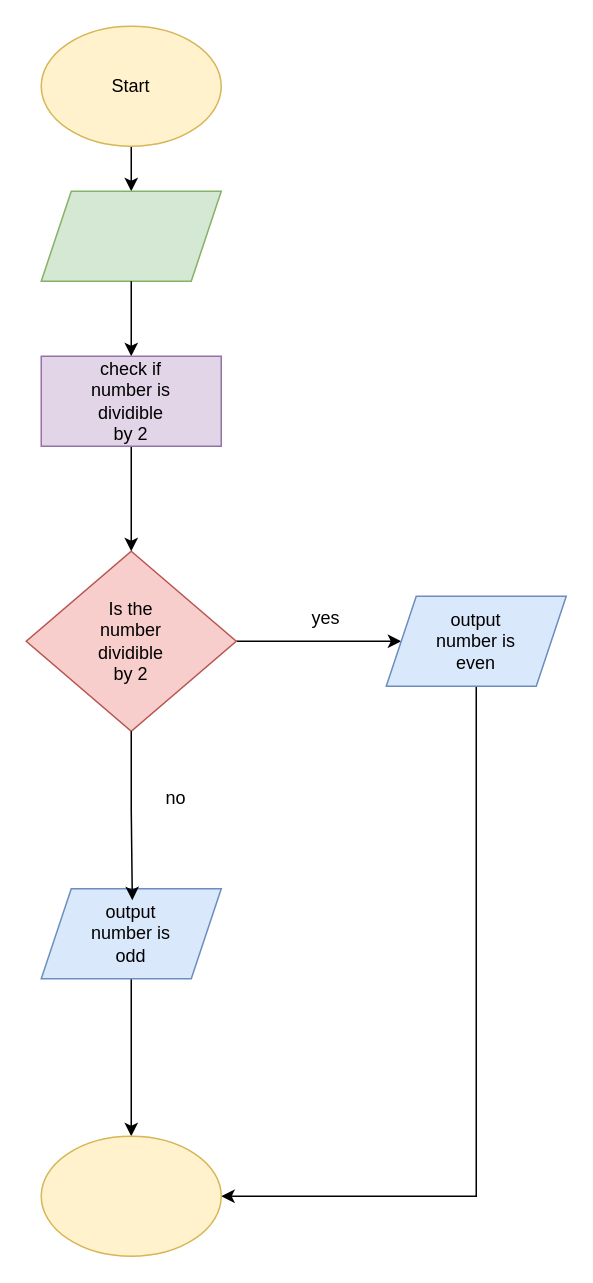
Some shapes in this 593 by 1283 pixel diagram are drawn without their labels. Here are the shapes that lost their labels. From the top down, the centre of each, then its label:
At pixel 130 235: "input number".
At pixel 130 1195: "End".
